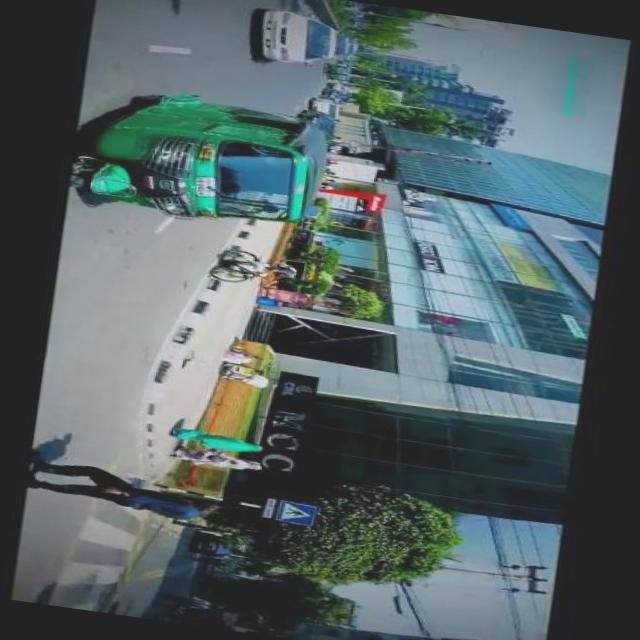car: (258, 7, 342, 68), (302, 108, 340, 139), (314, 94, 346, 116)
motorcycle: (72, 81, 336, 237)
